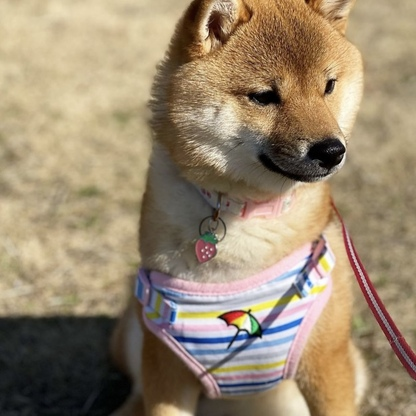shiba: (105, 1, 375, 416)
